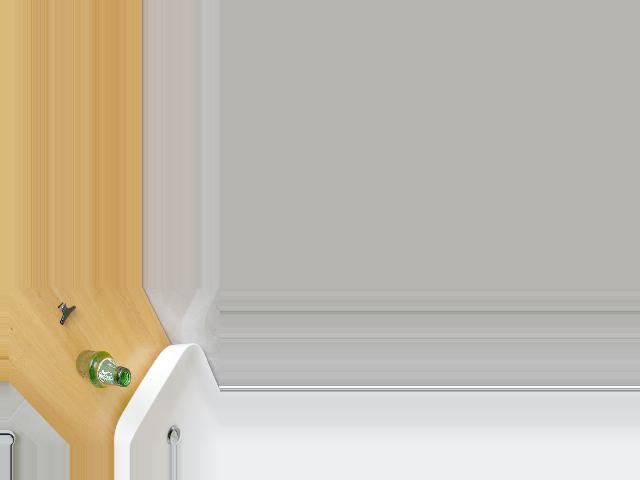beer: (75, 351, 130, 387)
